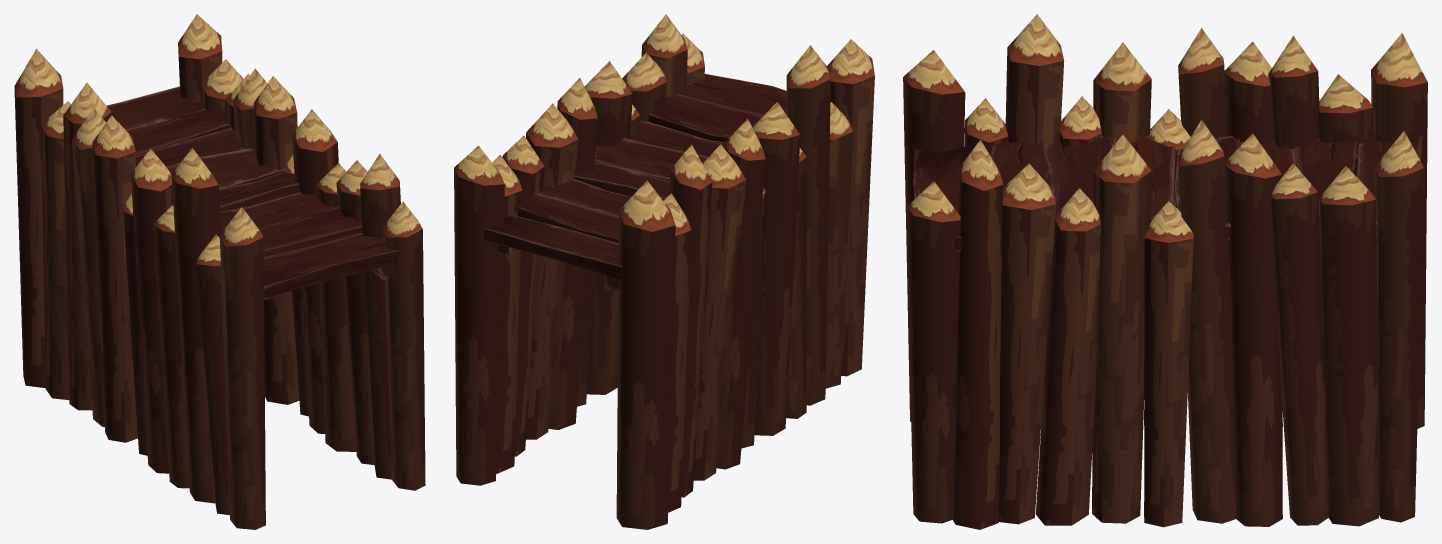
The model's file is SM_PROP_wall_wood.glb.
The picture shows the model from 3 angles, left to right: view 1: azimuth 30°, elevation 25°; view 2: azimuth 150°, elevation 25°; view 3: azimuth 270°, elevation 25°; orthographic projection. The views are drawn at different scales.
Visible parts, largest first — view 1: SM_PROP_wall_wood_EXPORT; view 2: SM_PROP_wall_wood_EXPORT; view 3: SM_PROP_wall_wood_EXPORT.
Boxes of the visible parts, x1,y1,x2,y2 form: SM_PROP_wall_wood_EXPORT: (14,14,425,529); SM_PROP_wall_wood_EXPORT: (454,14,874,529); SM_PROP_wall_wood_EXPORT: (903,14,1427,529).
Bounding box in the file's own units: 3.6 × 5.31 × 6.26.
Materials: 3 (3 with a texture image).
